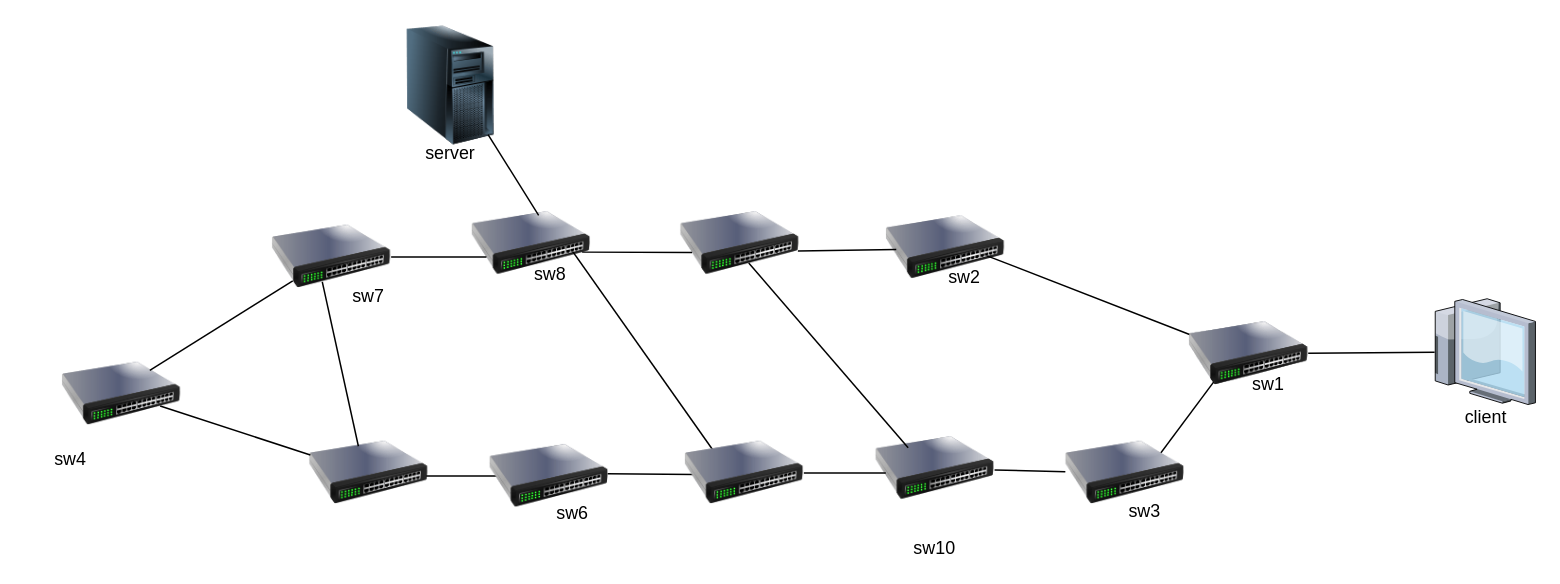
This 1560x584 diagram has some shape labels left out. The shapes that lost their labels are listed below. From the top down, each one's box as (x1, y1, x2, y2) in pixels, then its label:
(679, 181, 799, 305): sw11
(308, 413, 428, 532): sw5
(684, 413, 803, 532): sw9
